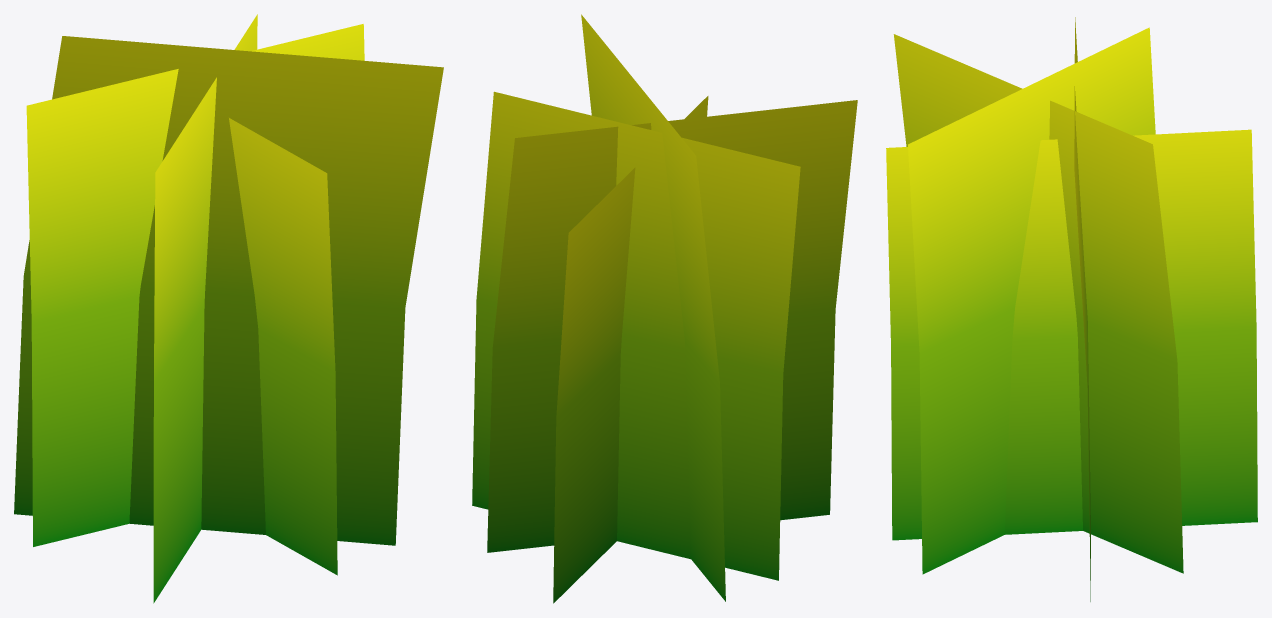
File: SM_Wheat_A.fbx
3 renders of one model, left to right at view 1: azimuth 30°, elevation 25°; view 2: azimuth 150°, elevation 25°; view 3: azimuth 270°, elevation 25°, orthographic. The views are drawn at different scales.
Visible parts, largest first — view 1: SM_Wheat_A; view 2: SM_Wheat_A; view 3: SM_Wheat_A.
Boxes of the visible parts, x1,y1,x2,y2 form: SM_Wheat_A: (14, 14, 443, 603); SM_Wheat_A: (472, 14, 857, 603); SM_Wheat_A: (886, 17, 1257, 601).
Bounding box in the file's own units: 83.59 × 80.77 × 108.
